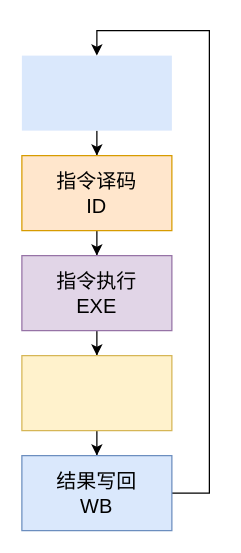
This 241x553 diagram has some shape labels left out. Each missing label, with the centre of its shape:
"取指令 IF" goes at point 96,92.
"存储器访问 MEM" goes at point 96,392.
